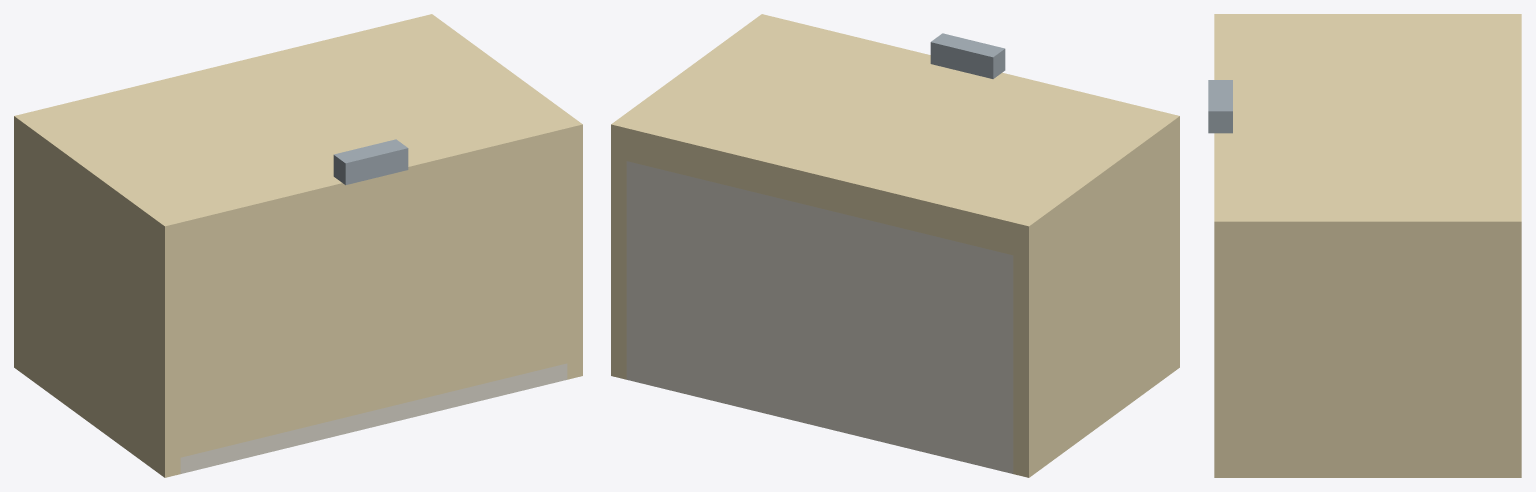
Rendered from GI_BreadBox_01.glb.
3 renders of one model, left to right at view 1: azimuth 30°, elevation 25°; view 2: azimuth 150°, elevation 25°; view 3: azimuth 270°, elevation 25°, orthographic.
Parts seen in each view (by area): view 1: GI_BreadBox_01, Lid; view 2: GI_BreadBox_01, Lid; view 3: Lid, GI_BreadBox_01.
Part boxes in pixels (left/top/right/bottom): GI_BreadBox_01: left=14, top=149, right=582, bottom=477; Lid: left=14, top=14, right=582, bottom=258; GI_BreadBox_01: left=611, top=149, right=1179, bottom=477; Lid: left=611, top=14, right=1179, bottom=258; Lid: left=1208, top=14, right=1521, bottom=255; GI_BreadBox_01: left=1214, top=255, right=1521, bottom=477.
Size of the model in its own units: 0.4 by 0.25 by 0.255.
1 material, 1 textured.
